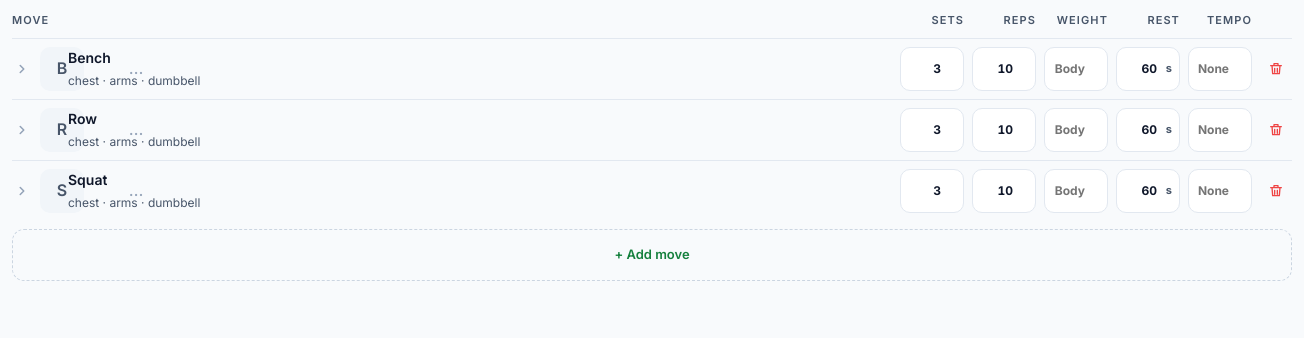
Test case: PlanMovesTableComponent › on touch › has no drag handle and puts the arrows behind the row menu
Click the 1st button with class "more".
click(136, 69)  # box [120, 53, 152, 85]
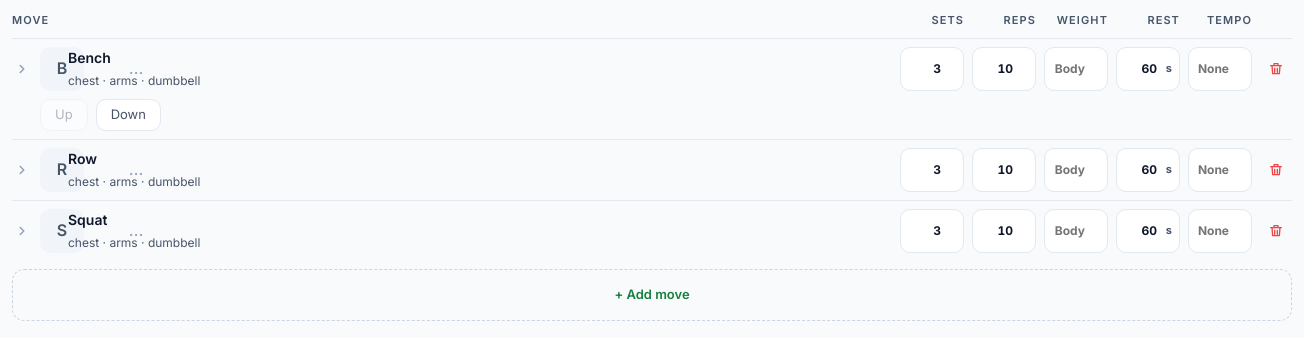
Expected: the element with class "arrows" is shown, [40, 99, 161, 131]
